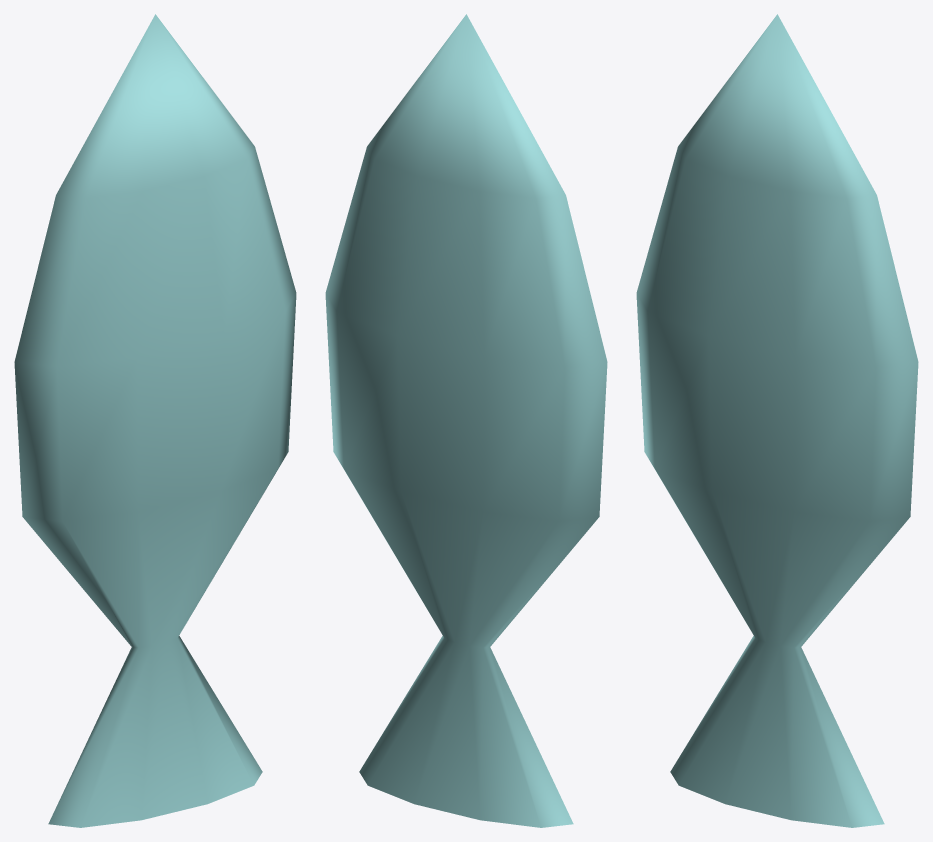
The model's file is Dummy_Fish.FBX.
The picture shows the model from 3 angles, left to right: view 1: azimuth 30°, elevation 25°; view 2: azimuth 150°, elevation 25°; view 3: azimuth 330°, elevation 25°; orthographic projection.
Parts seen in each view (by area): view 1: Cylinder001; view 2: Cylinder001; view 3: Cylinder001.
Part boxes in pixels (x1,y1,x2,y2): Cylinder001: (14, 14, 296, 827); Cylinder001: (325, 14, 607, 827); Cylinder001: (636, 14, 918, 827).
Size of the model in its own units: 0.1284 by 0.3411 by 0.0401.
